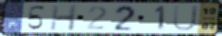1: (153, 5, 167, 32)
2: (110, 4, 139, 33), (85, 5, 109, 31)
5: (26, 5, 47, 31)
H: (49, 4, 80, 32)
U: (171, 5, 200, 32)
